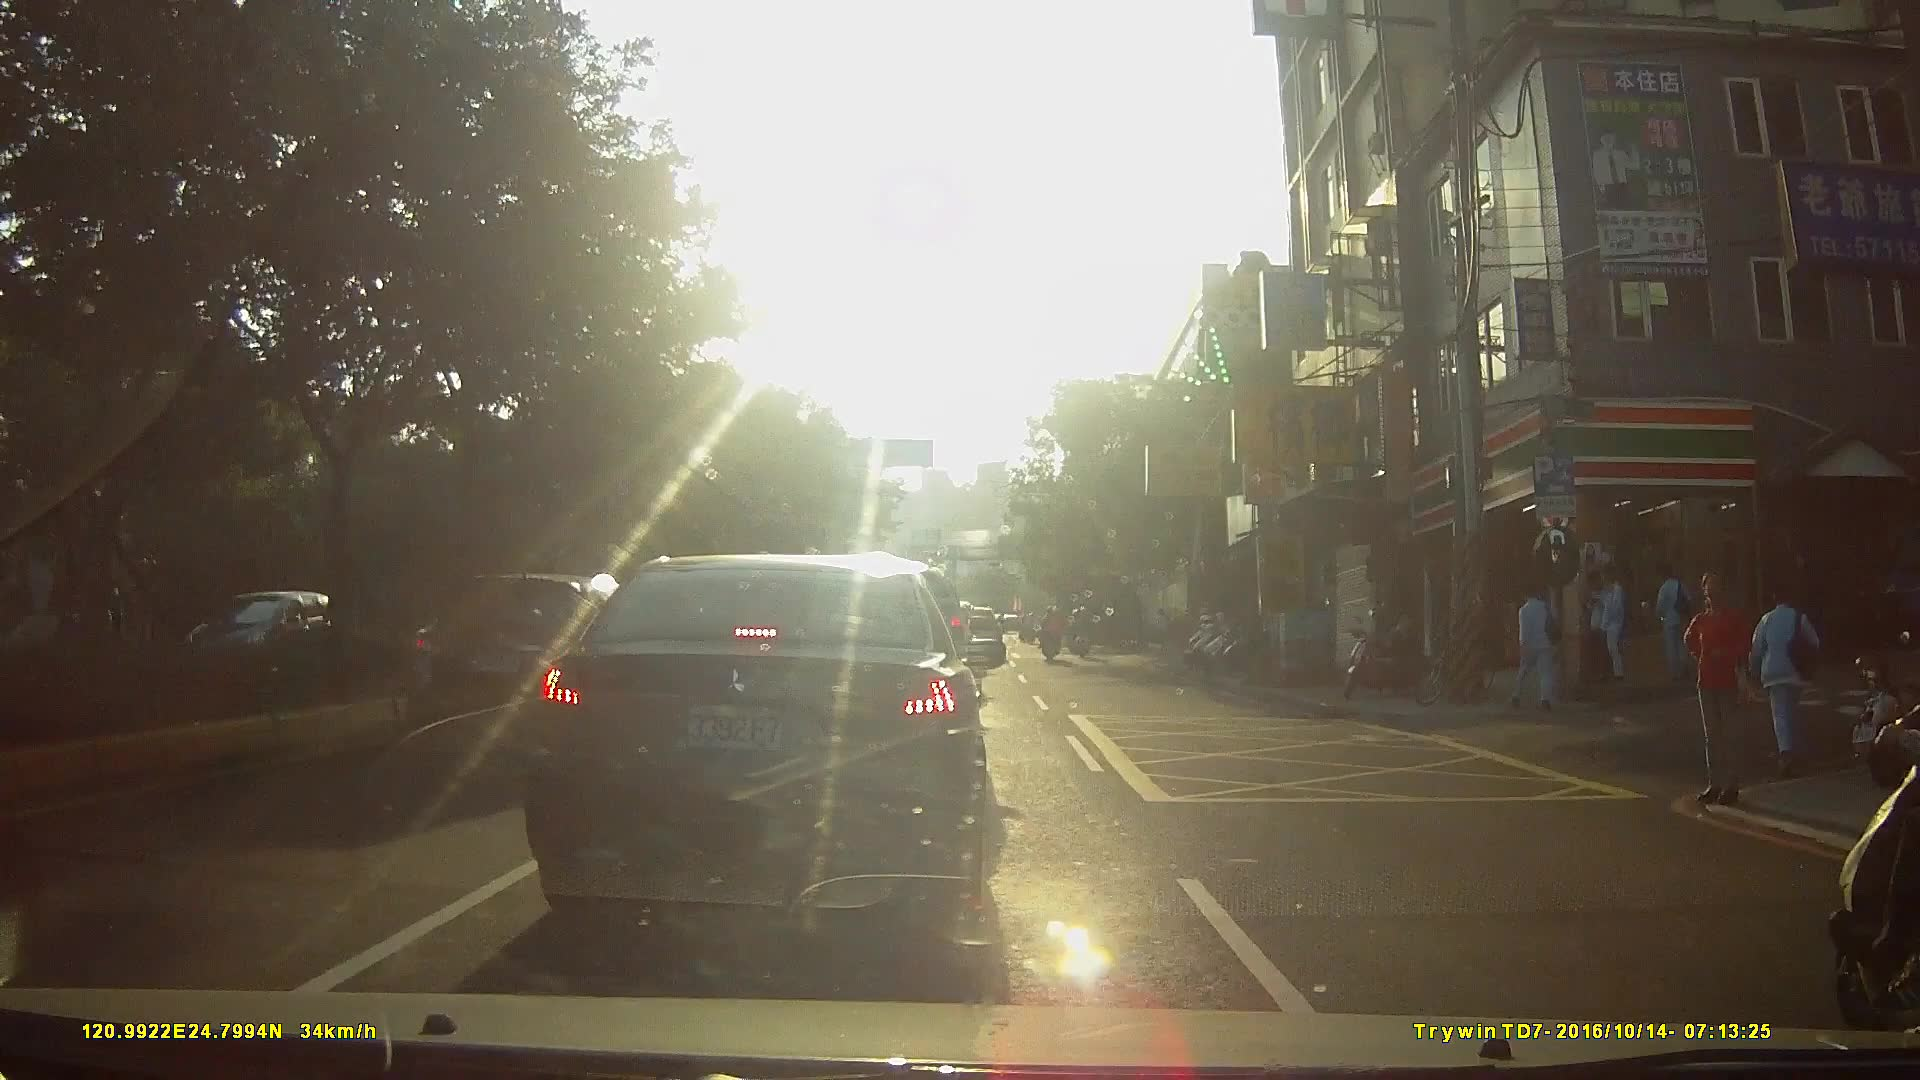pedestrian: (1680, 568, 1752, 804), (1748, 585, 1823, 780), (1510, 579, 1564, 714), (1582, 568, 1626, 686), (1658, 565, 1697, 676), (1582, 567, 1605, 692)
rider: (1039, 606, 1067, 667), (1067, 608, 1092, 661)
vehicle: (515, 549, 1011, 936), (400, 566, 678, 769), (168, 588, 353, 680)
